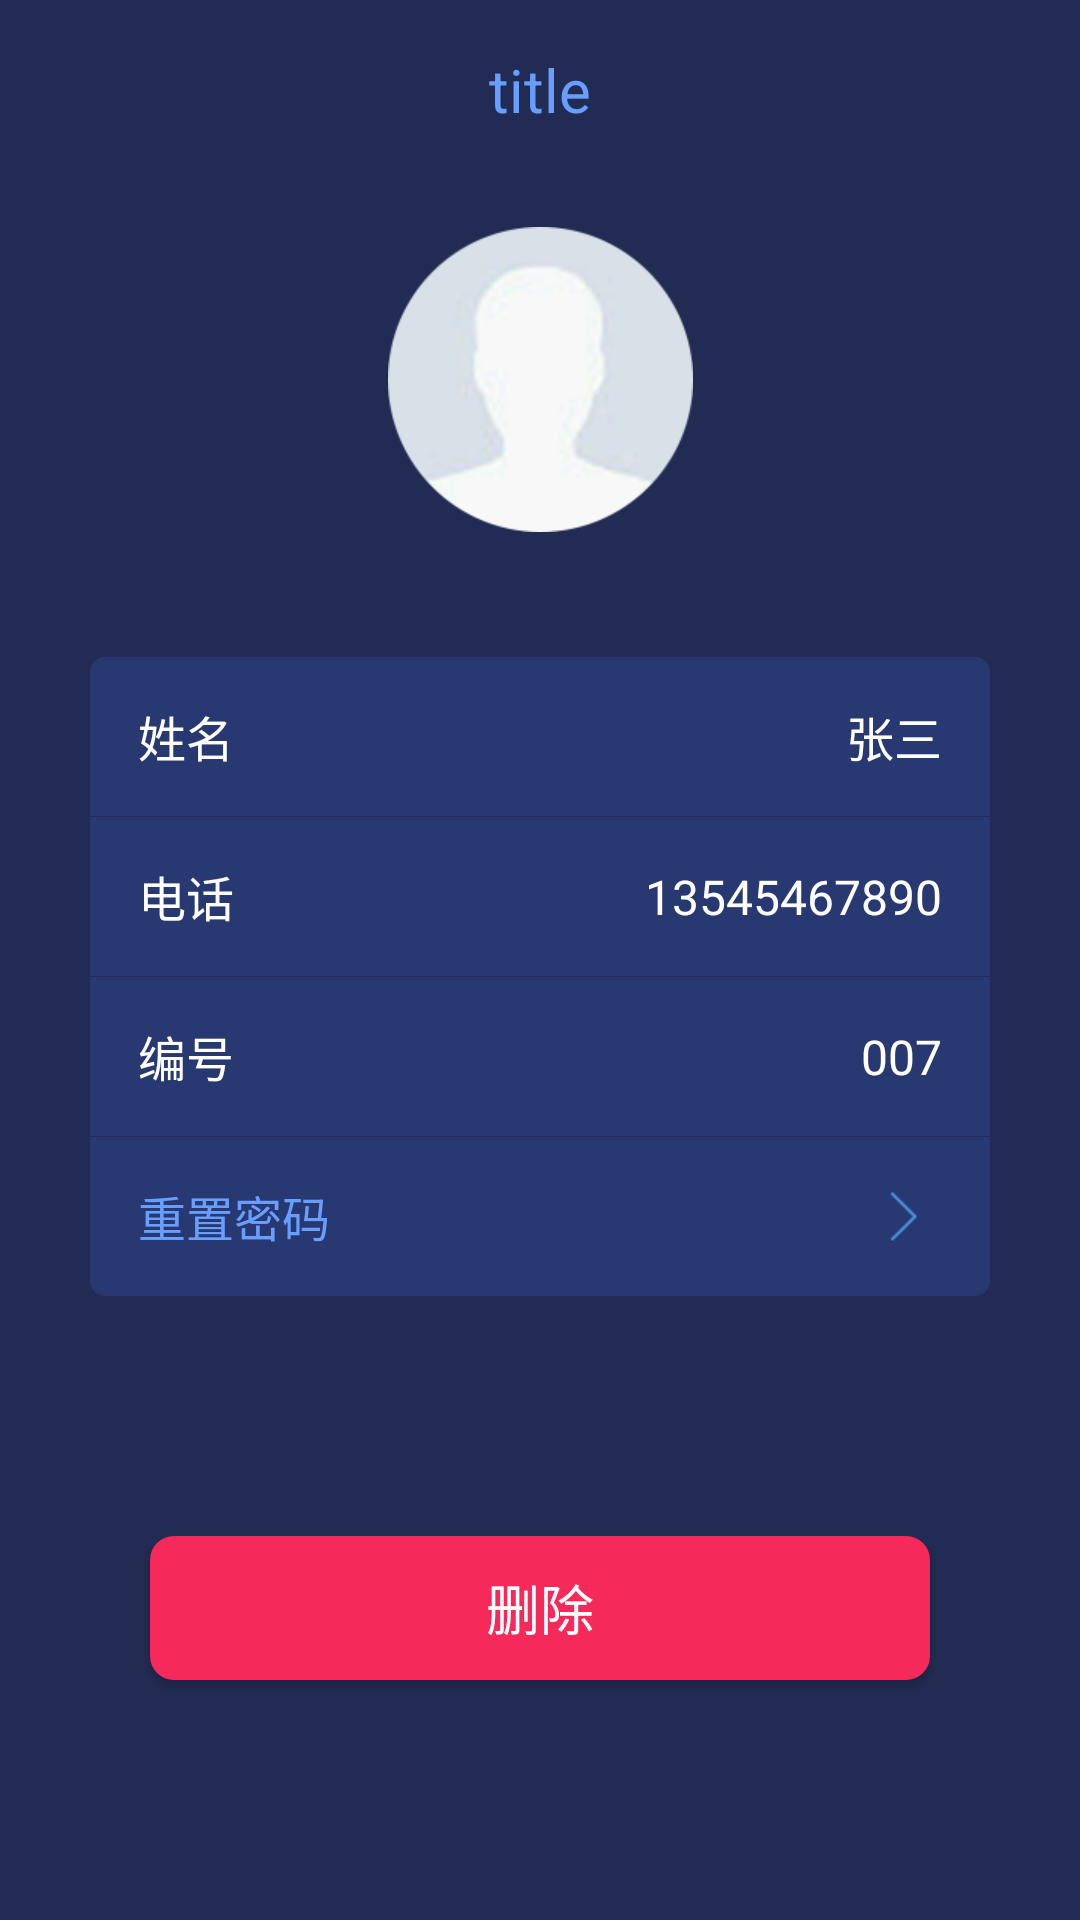

Where to tap for icons on this 1080*1920 app screen, as point (x, y):
head: point (540, 379)
jiantou: point (904, 1216)
